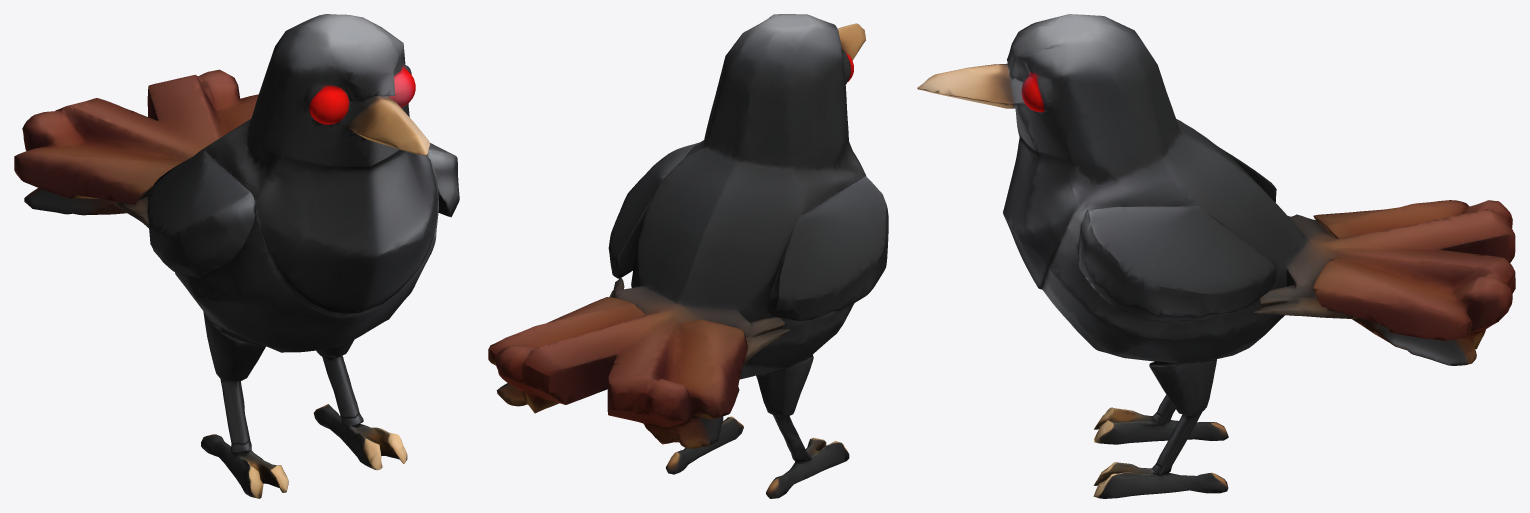
File: magpie.glb
3 views of the same model, side by side, from view 1: azimuth 30°, elevation 25°; view 2: azimuth 150°, elevation 25°; view 3: azimuth 270°, elevation 25° (orthographic). The views are drawn at different scales.
Visible parts, largest first — view 1: tripo_node_e9091fa9-9468-4f91-814a-62e2ab51bd8c; view 2: tripo_node_e9091fa9-9468-4f91-814a-62e2ab51bd8c; view 3: tripo_node_e9091fa9-9468-4f91-814a-62e2ab51bd8c.
Boxes of the visible parts, left/top/right/bottom form: tripo_node_e9091fa9-9468-4f91-814a-62e2ab51bd8c: left=14, top=14, right=459, bottom=498; tripo_node_e9091fa9-9468-4f91-814a-62e2ab51bd8c: left=488, top=14, right=888, bottom=498; tripo_node_e9091fa9-9468-4f91-814a-62e2ab51bd8c: left=917, top=14, right=1515, bottom=498.
Bounding box in the file's own units: 0.525 × 0.8148 × 1.
1 material, 1 textured.
